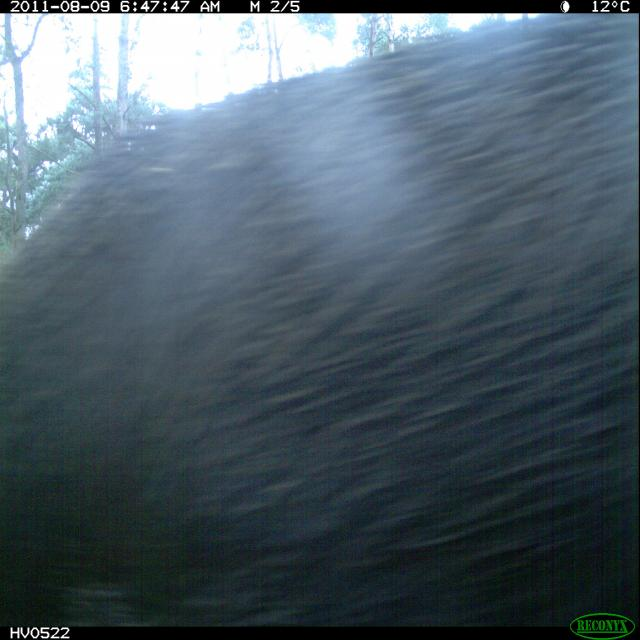boar: (0, 21, 640, 629)
